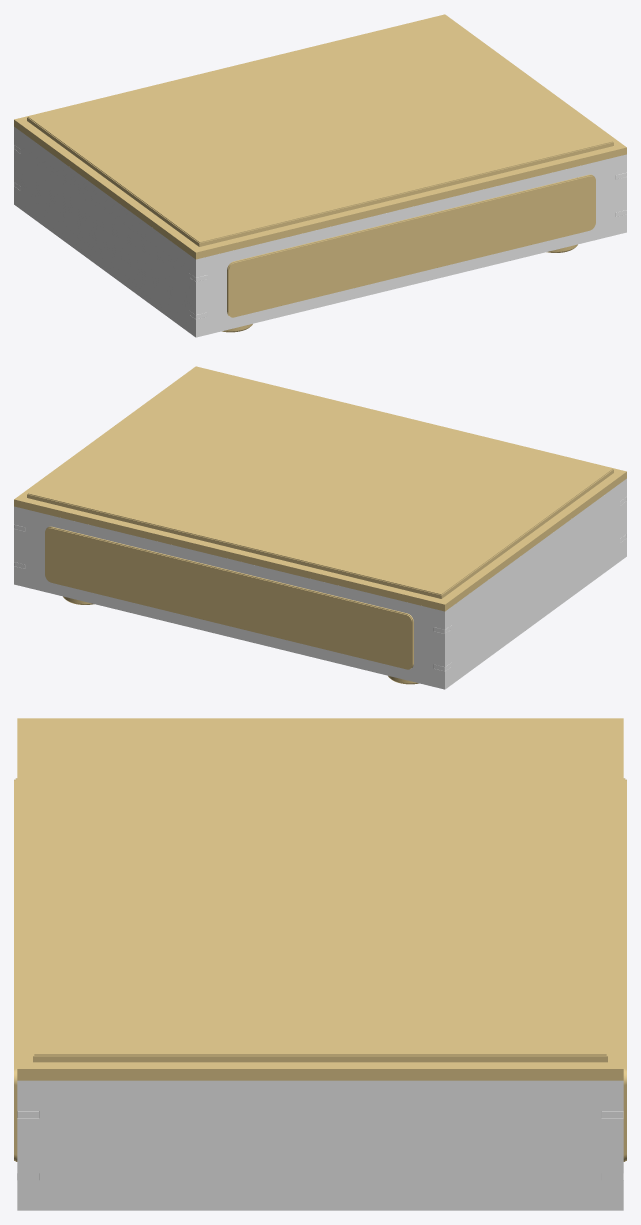
The picture shows the model from 3 angles, top to bottom: view 1: azimuth 30°, elevation 25°; view 2: azimuth 150°, elevation 25°; view 3: azimuth 270°, elevation 25°; orthographic projection. The views are drawn at different scales.
Visible parts, largest first — view 1: A03_Stepped_Hidden_Top, A01_Front_Blank, W03_Side_Teak, W01_Front_Teak; view 2: A03_Stepped_Hidden_Top, A02_Rear_Blank, W03_Side_Teak, W02_Rear_Teak; view 3: A03_Stepped_Hidden_Top, W04_Side_Teak, A01_Front_Blank, A02_Rear_Blank.
Boxes of the visible parts, left/top/right/bottom form: A03_Stepped_Hidden_Top: left=14, top=14, right=626, bottom=259; A01_Front_Blank: left=227, top=174, right=595, bottom=317; W03_Side_Teak: left=14, top=126, right=195, bottom=337; W01_Front_Teak: left=196, top=154, right=626, bottom=337; A03_Stepped_Hidden_Top: left=14, top=366, right=626, bottom=611; A02_Rear_Blank: left=45, top=526, right=413, bottom=669; W03_Side_Teak: left=445, top=478, right=626, bottom=689; W02_Rear_Teak: left=14, top=506, right=444, bottom=689; A03_Stepped_Hidden_Top: left=17, top=718, right=623, bottom=1080; W04_Side_Teak: left=17, top=1080, right=623, bottom=1210; A01_Front_Blank: left=14, top=778, right=17, bottom=1161; A02_Rear_Blank: left=623, top=778, right=626, bottom=1161.
Bounding box in the file's own units: 0.52 × 0.117 × 0.384.
